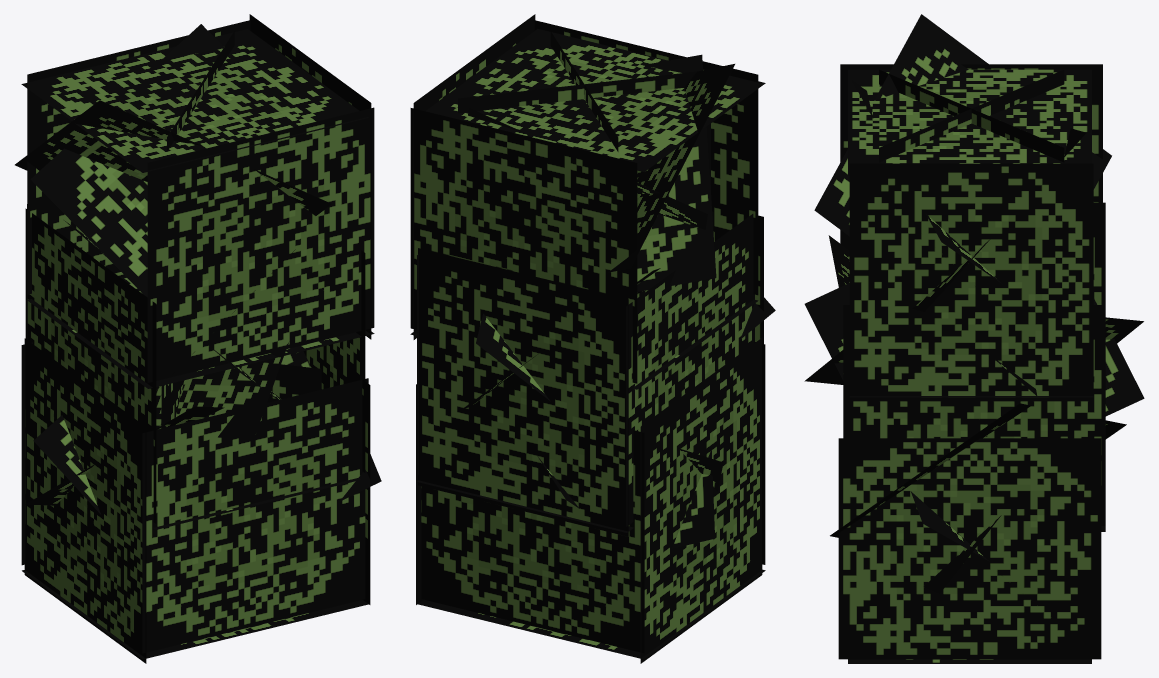
File: BigBush3.fbx
3 views of the same model, side by side, from view 1: azimuth 30°, elevation 25°; view 2: azimuth 150°, elevation 25°; view 3: azimuth 270°, elevation 25° (orthographic).
Parts seen in each view (by area): view 1: BigBush3; view 2: BigBush3; view 3: BigBush3.
Part boxes in pixels (box(x1,y1,x2,y2)): BigBush3: box(15, 14, 381, 663); BigBush3: box(410, 14, 775, 663); BigBush3: box(804, 14, 1144, 663).
Bounding box in the file's own units: 104 × 179 × 102.
